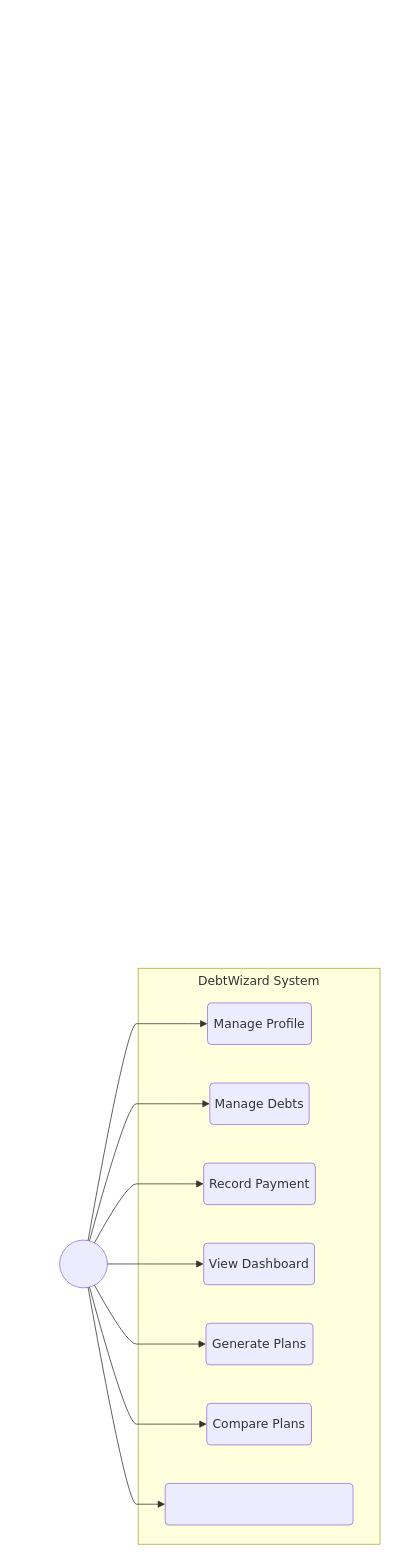
The diagram is 393 pixels wide and 1558 high, and some of its shapes have lost their labels. Each missing label, with the centre of its shape:
"User" belongs at pixel 83 1263.
"View Quick Win Opportunities" belongs at pixel 258 1504.
